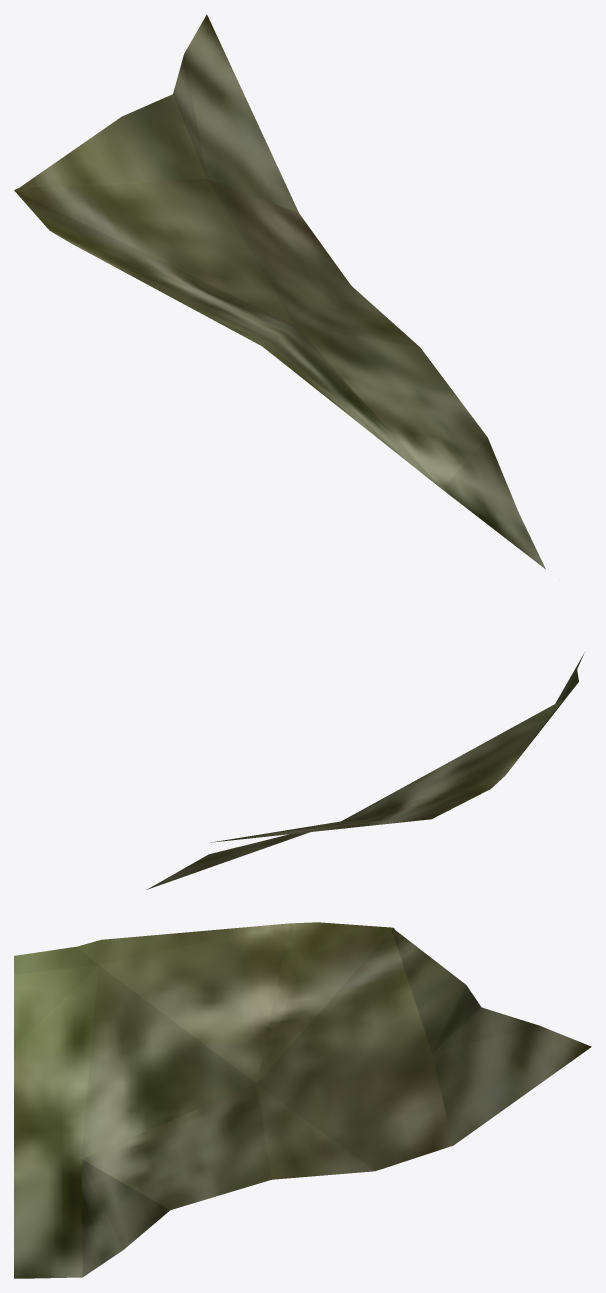
3 renders of one model, top to bottom at view 1: azimuth 30°, elevation 25°; view 2: azimuth 150°, elevation 25°; view 3: azimuth 270°, elevation 25°, orthographic. The views are drawn at different scales.
Bounding box in the file's own units: 0.4272 × 0.3711 × 0.8381.
1 material, 1 textured.
